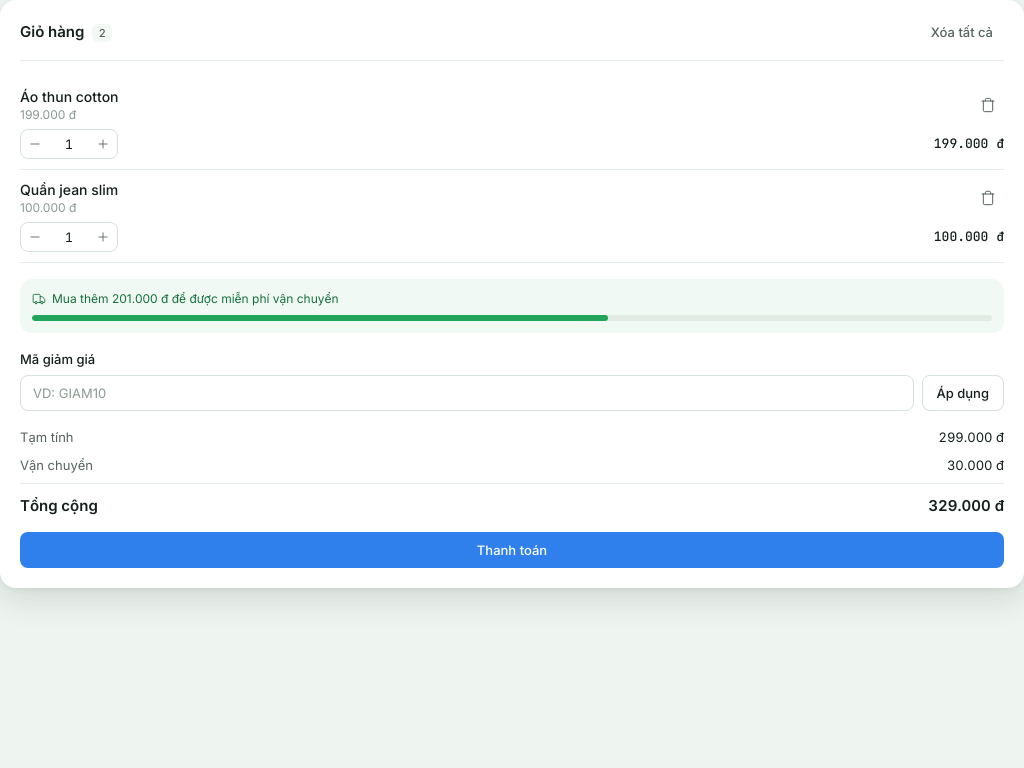
Test case: <CartSummary /> › xoá trắng ô số lượng không làm mất sản phẩm, rời ô thì hiện lại số cũ
Clear the number field named "Số lượng Áo thun cotton". click: {"x": 69, "y": 144}
box: [49, 130, 89, 158]
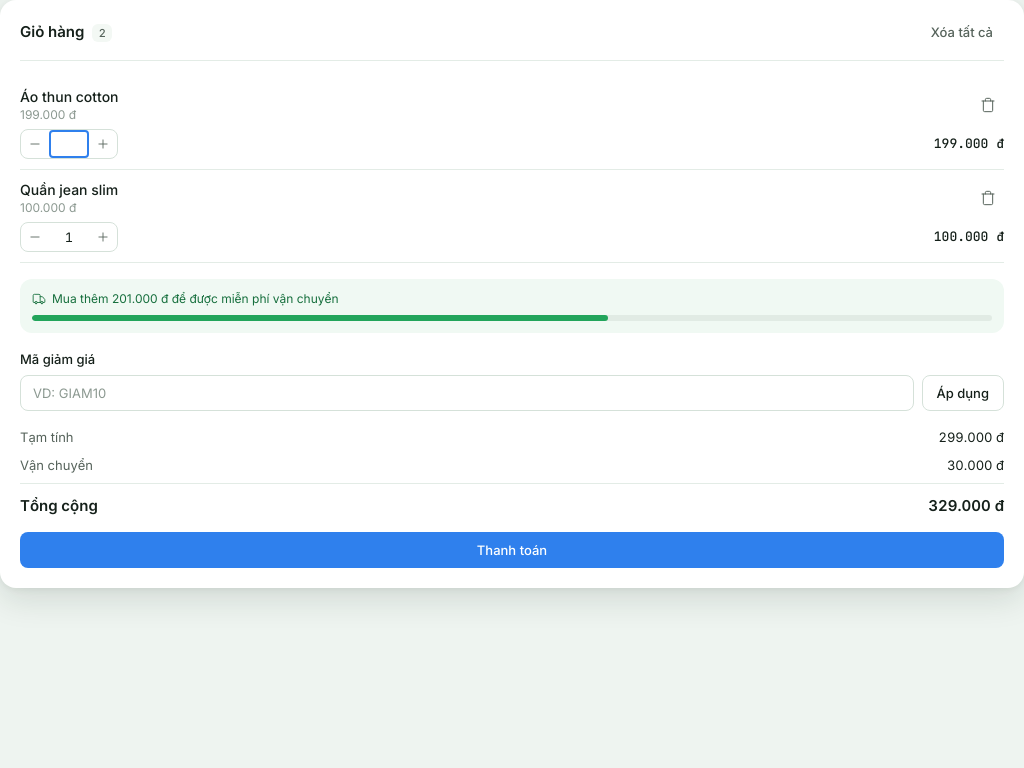
Expected: the text "Áo thun cotton" is shown, [20, 88, 118, 105]
Press Tab
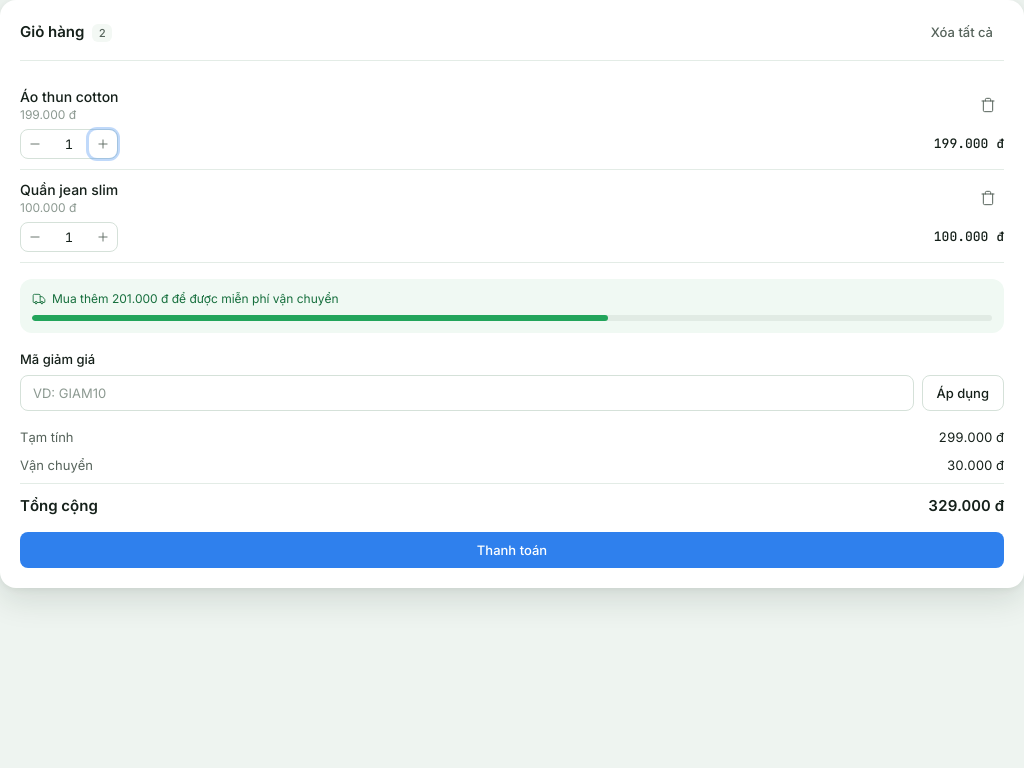
Expected: the number field named "Số lượng Áo thun cotton" holds "1", [49, 130, 89, 158]
